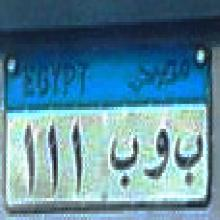1: (68, 119, 88, 195), (44, 123, 63, 192), (22, 120, 39, 193)
baa: (109, 131, 140, 192), (174, 131, 205, 189)
waw: (144, 127, 169, 187)
